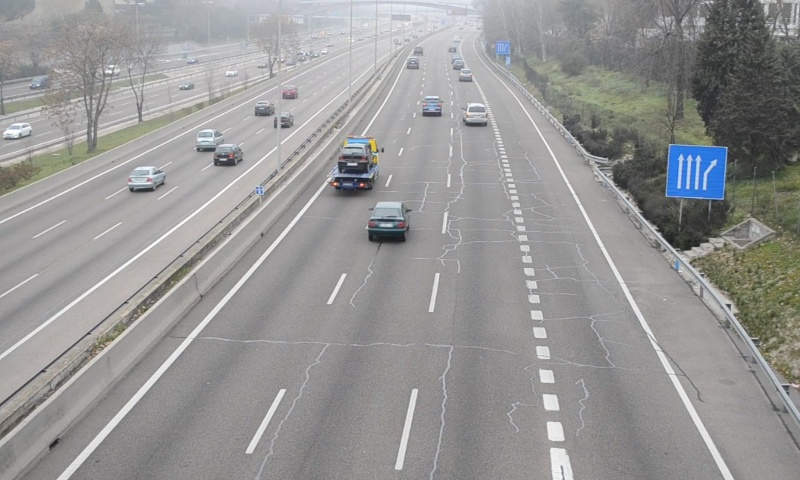car: (366, 202, 409, 237), (462, 102, 488, 124), (419, 95, 443, 116), (458, 67, 473, 82)
small-truck: (328, 136, 379, 192)
